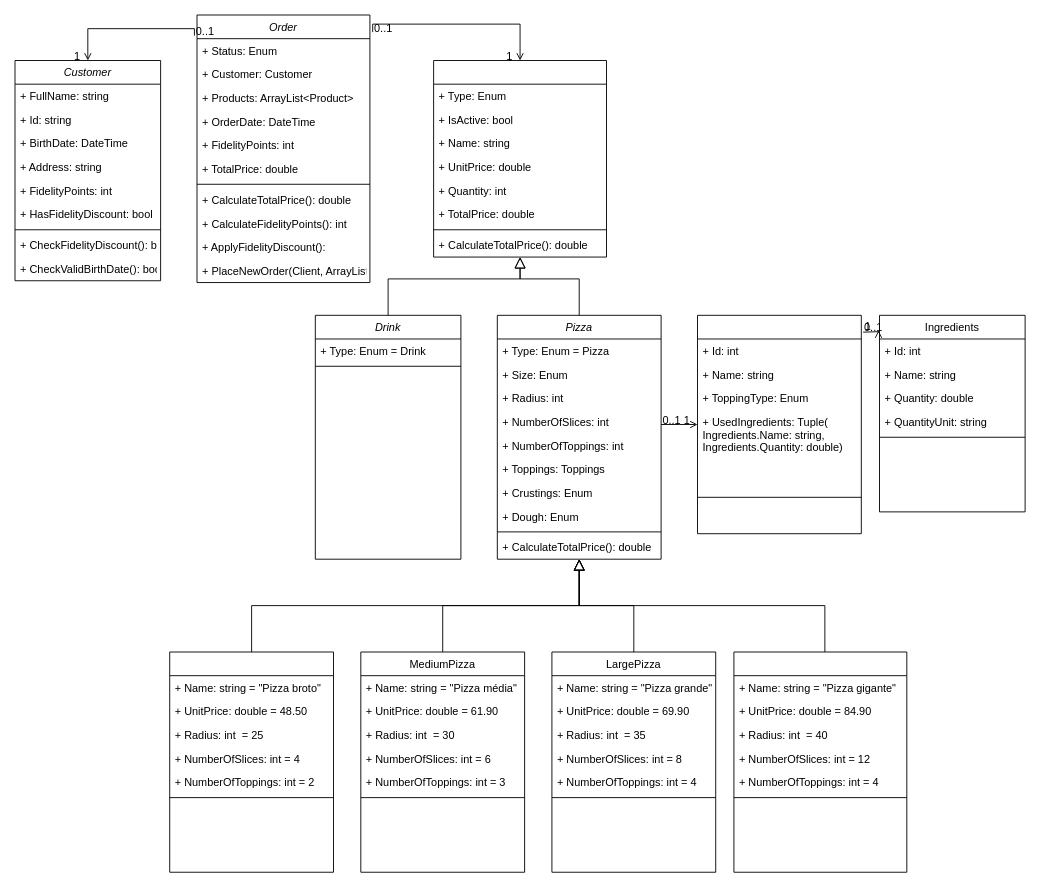
Image size: 1040x887. Some labels were removed from this diagram. The shapes that lost their labels are listed below. From the top down, each one's box as (x1, y1, x2, y2) in pixels, then its label:
(433, 60, 607, 257): Product
(697, 314, 861, 534): Toppings
(169, 651, 334, 872): SmallPizza
(733, 651, 907, 872): GiantPizza
